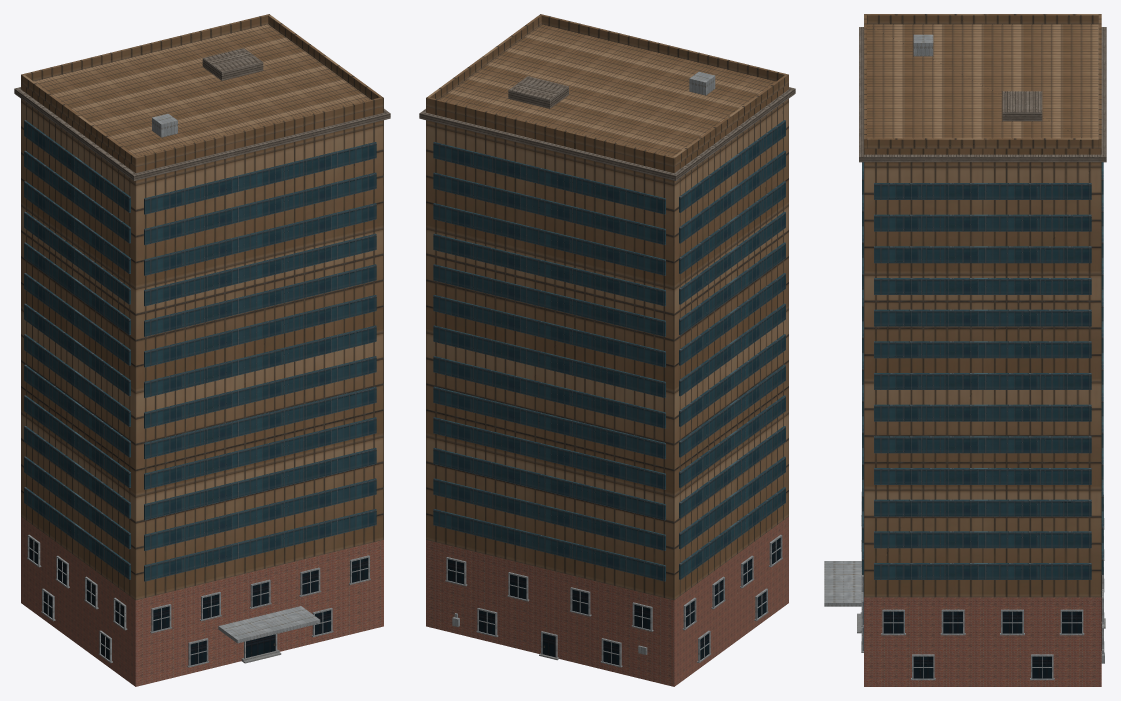
File: atwater-landing_lod0.gltf
3 views of the same model, side by side, from view 1: azimuth 30°, elevation 25°; view 2: azimuth 150°, elevation 25°; view 3: azimuth 270°, elevation 25° (orthographic). The views are drawn at different scales.
Visible parts, largest first — view 1: atwater-landing_upper, atwater-landing_fen_07-glass-curtain-blue_0, atwater-landing_base, atwater-landing_fen_07-glass-curtain-blue_2_t, atwater-landing_fen_14-steel-panel_1, atwater-landing__cornice, atwater-landing__parapet_front, atwater-landing__parapet_back, atwater-landing__canopy, atwater-landing__terrace, atwater-landing__parapet_left, atwater-landing__parapet_right; view 2: atwater-landing_upper, atwater-landing_fen_07-glass-curtain-blue_0, atwater-landing_base, atwater-landing_fen_07-glass-curtain-blue_2_t, atwater-landing_fen_14-steel-panel_1, atwater-landing__cornice, atwater-landing__parapet_back, atwater-landing__parapet_front, atwater-landing__terrace, atwater-landing__parapet_left, atwater-landing__parapet_right; view 3: atwater-landing_upper, atwater-landing_fen_07-glass-curtain-blue_0, atwater-landing_base, atwater-landing__cornice, atwater-landing_fen_07-glass-curtain-blue_2_t, atwater-landing__parapet_left, atwater-landing__parapet_right, atwater-landing_fen_14-steel-panel_1, atwater-landing__canopy, atwater-landing__terrace, atwater-landing__parapet_back, atwater-landing__vent.
Boxes of the visible parts, x1,y1,x2,y2 form: atwater-landing_upper: (21, 24, 383, 600); atwater-landing_fen_07-glass-curtain-blue_0: (24, 120, 376, 581); atwater-landing_base: (21, 516, 383, 686); atwater-landing_fen_07-glass-curtain-blue_2_t: (29, 538, 367, 665); atwater-landing_fen_14-steel-panel_1: (27, 534, 370, 667); atwater-landing__cornice: (14, 87, 390, 180); atwater-landing__parapet_front: (134, 97, 383, 166); atwater-landing__parapet_back: (21, 14, 269, 83); atwater-landing__canopy: (218, 606, 320, 643); atwater-landing__terrace: (202, 48, 263, 80); atwater-landing__parapet_left: (22, 75, 136, 165); atwater-landing__parapet_right: (268, 15, 381, 99); atwater-landing_upper: (426, 24, 788, 600); atwater-landing_fen_07-glass-curtain-blue_0: (433, 120, 785, 581); atwater-landing_base: (426, 516, 788, 686); atwater-landing_fen_07-glass-curtain-blue_2_t: (448, 538, 780, 665); atwater-landing_fen_14-steel-panel_1: (445, 534, 782, 667); atwater-landing__cornice: (419, 87, 795, 180); atwater-landing__parapet_back: (426, 97, 675, 166); atwater-landing__parapet_front: (540, 14, 788, 83); atwater-landing__terrace: (508, 76, 568, 108); atwater-landing__parapet_left: (673, 75, 787, 165); atwater-landing__parapet_right: (428, 15, 541, 99); atwater-landing_upper: (864, 24, 1101, 597); atwater-landing_fen_07-glass-curtain-blue_0: (862, 162, 1103, 579); atwater-landing_base: (864, 597, 1101, 686); atwater-landing__cornice: (859, 27, 1106, 162); atwater-landing_fen_07-glass-curtain-blue_2_t: (863, 575, 1101, 678); atwater-landing__parapet_left: (867, 14, 1098, 24); atwater-landing__parapet_right: (867, 138, 1098, 148); atwater-landing_fen_14-steel-panel_1: (861, 492, 1104, 680); atwater-landing__canopy: (824, 561, 861, 606); atwater-landing__terrace: (1002, 91, 1042, 121); atwater-landing__parapet_back: (1098, 14, 1101, 148); atwater-landing__vent: (913, 34, 933, 56).
Size of the model in its own units: 31 by 61.5 by 28.5.
